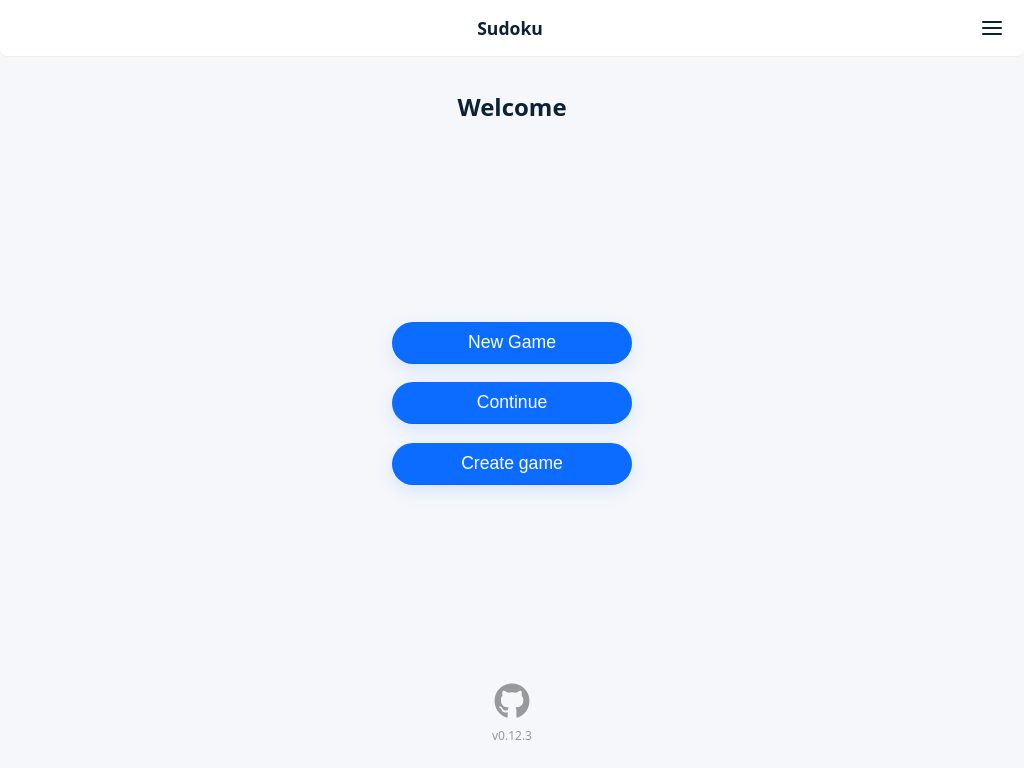
it: App › navigates to board when Continue clicked with saved game
This screenshot has width=1024, height=768.
Click the button "Continue" at (512, 403), box [392, 382, 632, 424]
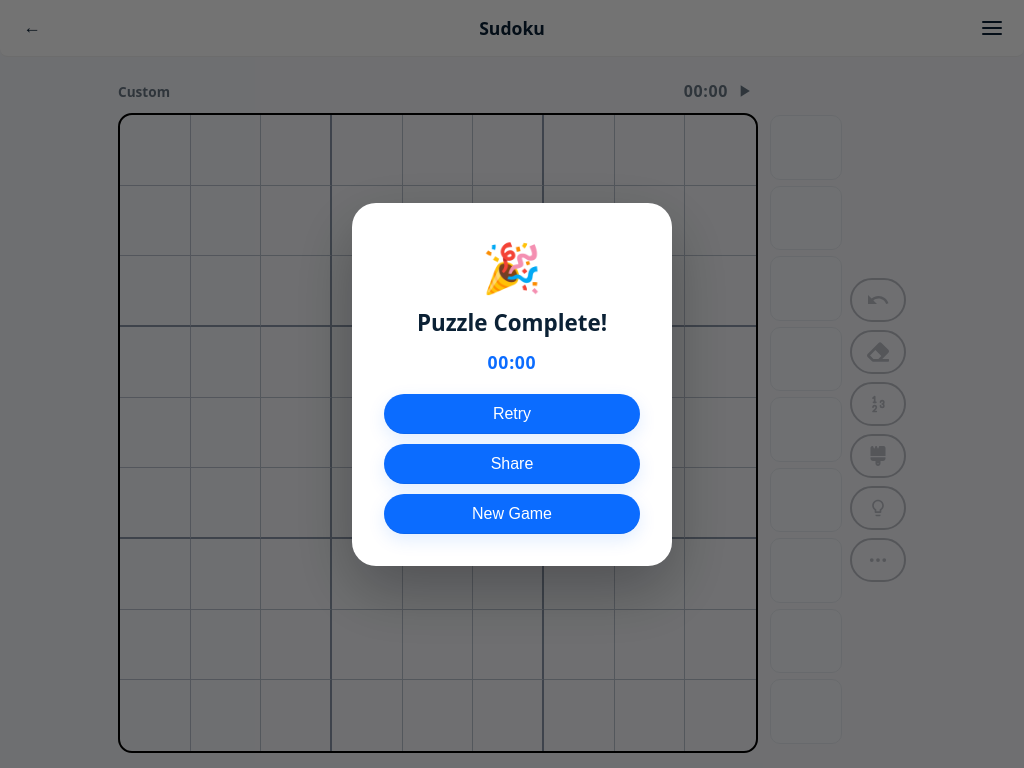
Result: the number of cells is 81
Result: the button named "back" is shown at [12, 8, 52, 48]
